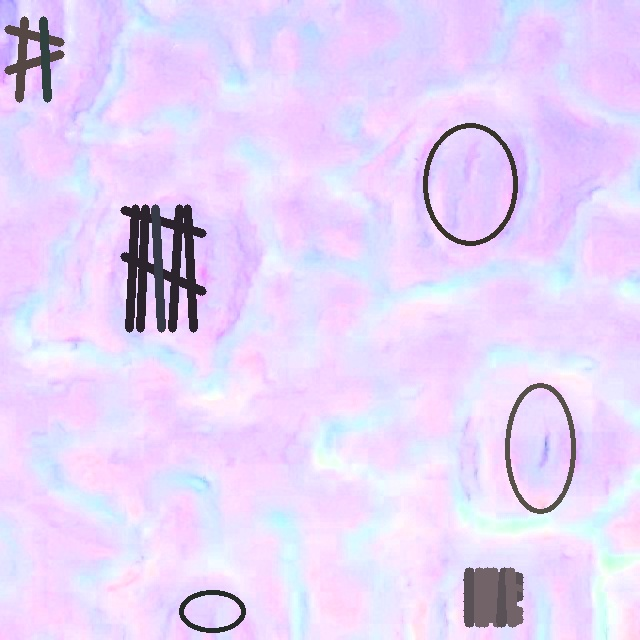close: (421, 122, 518, 246), (121, 204, 205, 332), (503, 381, 576, 514), (464, 568, 522, 627), (179, 589, 246, 634)
open: (4, 16, 64, 101)
